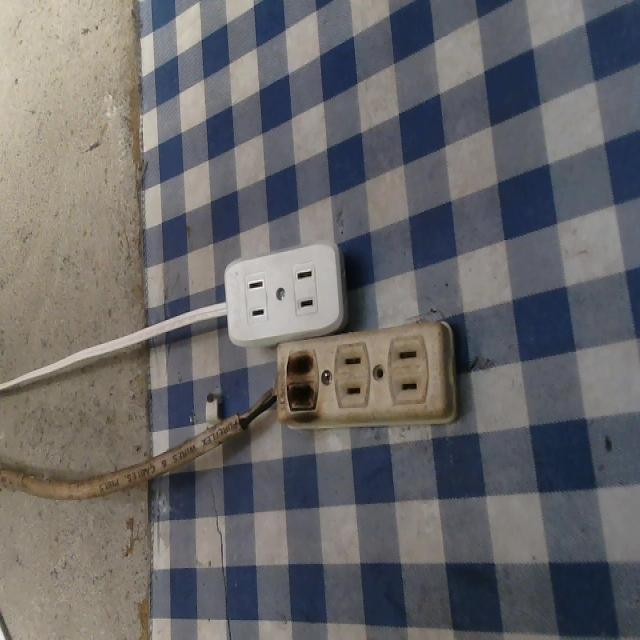-: (273, 341, 329, 431)
